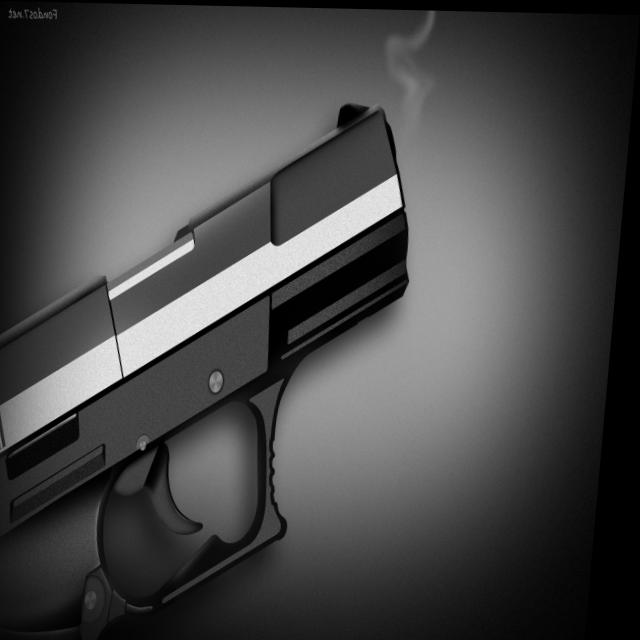handgun: (0, 80, 420, 640)
